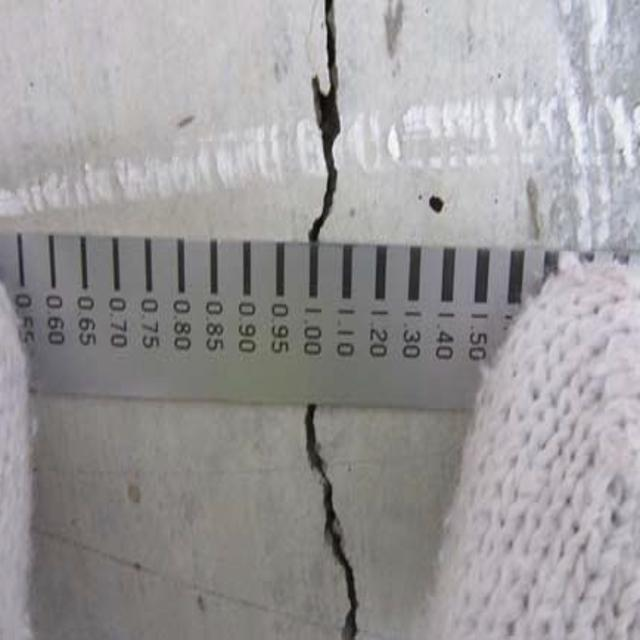crack: (284, 410, 390, 636), (293, 1, 370, 253)
